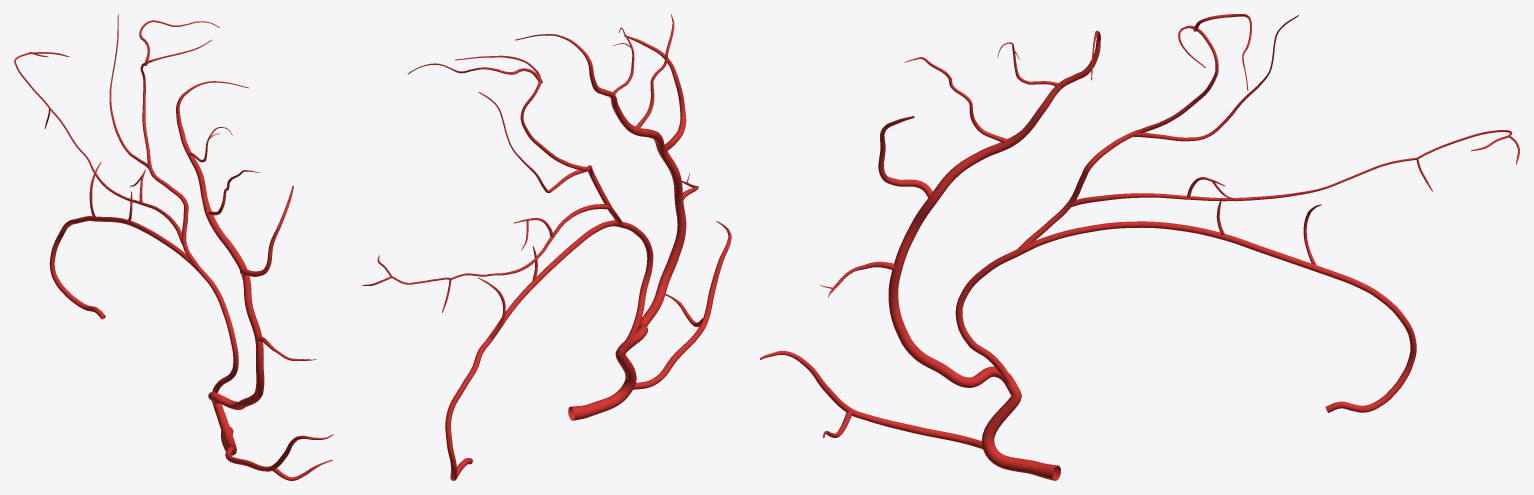
File: circulatorio-anterior-cerebral-artery-l.glb
3 views of the same model, side by side, from view 1: azimuth 30°, elevation 25°; view 2: azimuth 150°, elevation 25°; view 3: azimuth 270°, elevation 25° (orthographic). The views are drawn at different scales.
Visible parts, largest first — view 1: Pericallosal artery.l, Callosomarginal artery.l, Orbitofrontal branches of anterior cerebral artery.l, Anterior cerebral artery.l, Frontal branches of callosomarginal artery.l; view 2: Pericallosal artery.l, Callosomarginal artery.l, Orbitofrontal branches of anterior cerebral artery.l, Anterior cerebral artery.l, Frontal branches of callosomarginal artery.l; view 3: Pericallosal artery.l, Callosomarginal artery.l, Orbitofrontal branches of anterior cerebral artery.l, Anterior cerebral artery.l, Frontal branches of callosomarginal artery.l.
Boxes of the visible parts, bbox=[...] form: Pericallosal artery.l: bbox=[14, 14, 238, 393]; Callosomarginal artery.l: bbox=[176, 81, 316, 409]; Orbitofrontal branches of anterior cerebral artery.l: bbox=[225, 434, 333, 480]; Anterior cerebral artery.l: bbox=[212, 403, 236, 455]; Frontal branches of callosomarginal artery.l: bbox=[240, 185, 293, 276]; Pericallosal artery.l: bbox=[362, 55, 653, 480]; Callosomarginal artery.l: bbox=[515, 14, 698, 353]; Orbitofrontal branches of anterior cerebral artery.l: bbox=[633, 221, 731, 389]; Anterior cerebral artery.l: bbox=[568, 348, 636, 420]; Frontal branches of callosomarginal artery.l: bbox=[624, 35, 686, 151]; Pericallosal artery.l: bbox=[955, 14, 1519, 412]; Callosomarginal artery.l: bbox=[820, 30, 1100, 395]; Orbitofrontal branches of anterior cerebral artery.l: bbox=[760, 351, 982, 449]; Anterior cerebral artery.l: bbox=[981, 390, 1060, 480]; Frontal branches of callosomarginal artery.l: bbox=[878, 116, 932, 197].
Size of the model in its own units: 0.0312 by 0.0961 by 0.1433.
